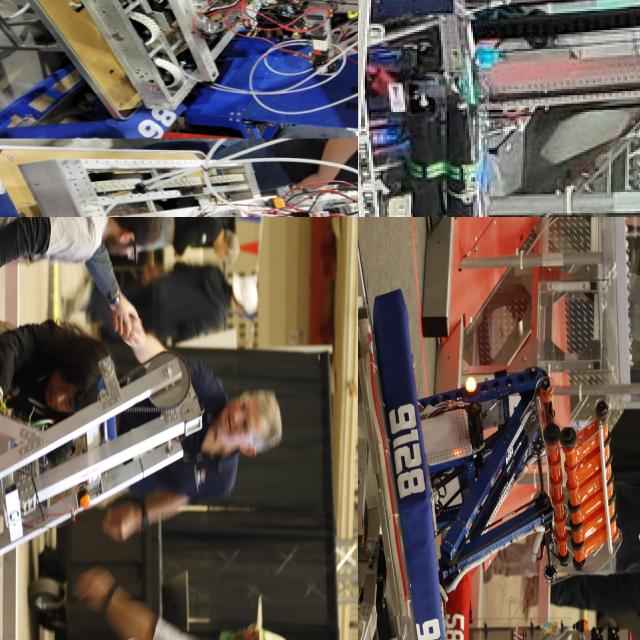FRC-Robots: (375, 217, 632, 640), (0, 217, 230, 640), (358, 0, 640, 217), (6, 0, 358, 114), (18, 122, 358, 217), (422, 519, 640, 640)
